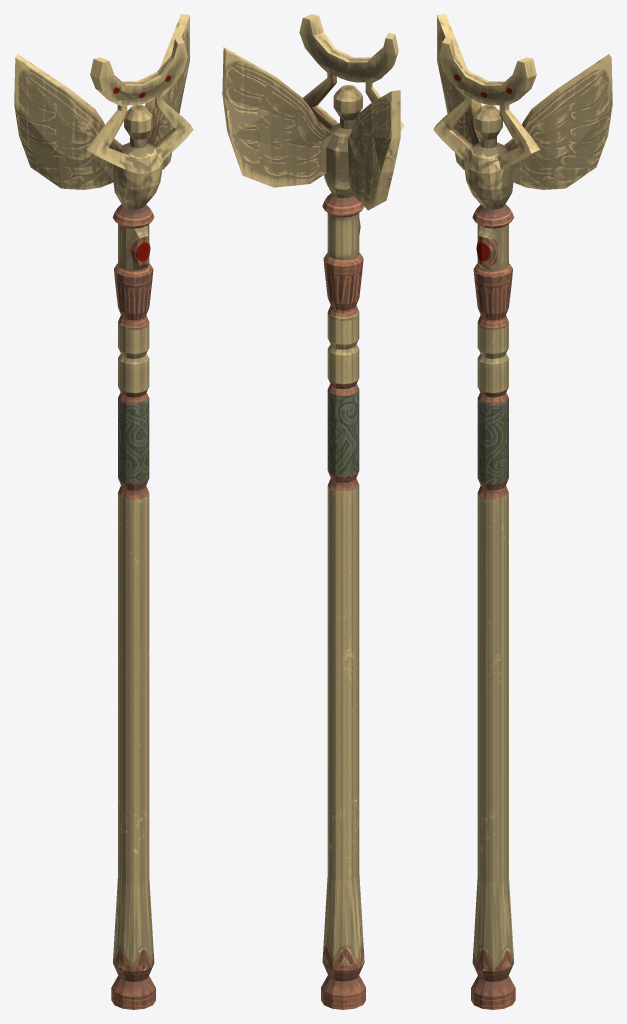
The model's file is Glory Wand.fbx.
3 views of the same model, side by side, from view 1: azimuth 30°, elevation 25°; view 2: azimuth 150°, elevation 25°; view 3: azimuth 330°, elevation 25° (orthographic).
Parts seen in each view (by area): view 1: Glory_Wand; view 2: Glory_Wand; view 3: Glory_Wand.
Part boxes in pixels (x1,y1,x2,y2): Glory_Wand: (14, 14, 193, 1009); Glory_Wand: (222, 14, 404, 1009); Glory_Wand: (433, 14, 612, 1009).
Size of the model in its own units: 69.47 by 361 by 36.05.
